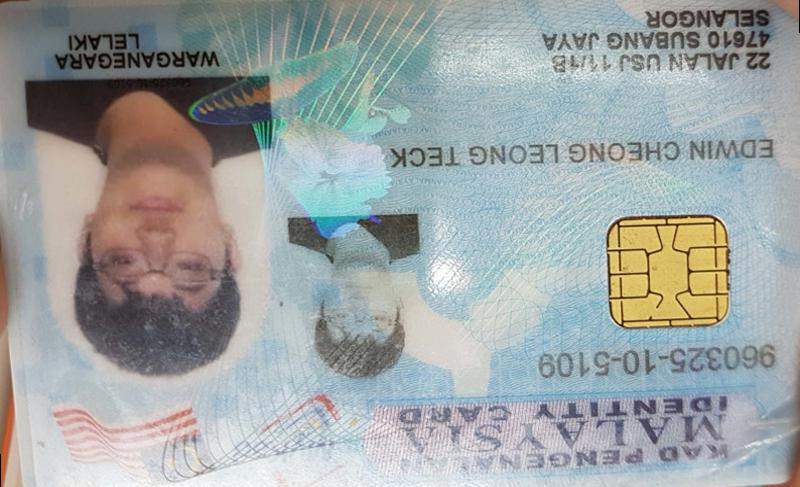hologramB: (260, 30, 391, 202)
